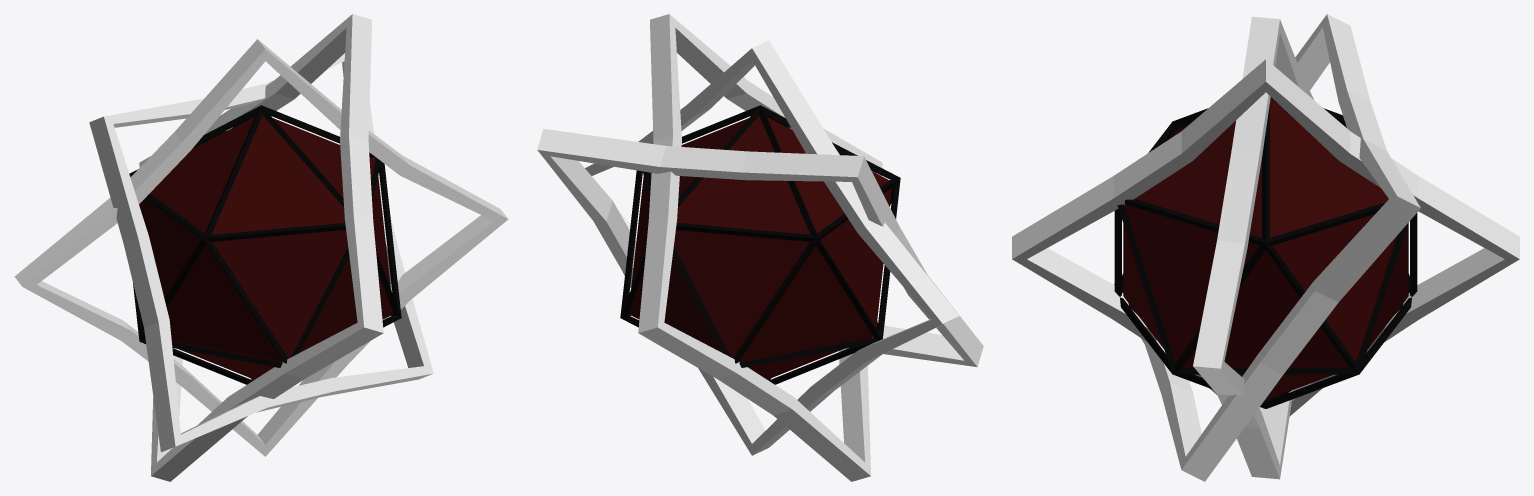
Rendered from Enemigo_bomba.fbx.
3 renders of one model, left to right at view 1: azimuth 30°, elevation 25°; view 2: azimuth 150°, elevation 25°; view 3: azimuth 270°, elevation 25°, orthographic. The views are drawn at different scales.
Parts seen in each view (by area): view 1: Icosphere, Cube.003, Cube, Cube.002, Icosphere.001; view 2: Icosphere, Cube, Cube.002, Cube.003, Icosphere.001; view 3: Icosphere, Cube, Cube.002, Cube.003, Icosphere.001.
Part boxes in pixels (box(x1,y1,x2,y2)): Icosphere: box(139, 115, 393, 379); Cube.003: box(14, 39, 508, 456); Cube: box(139, 14, 383, 481); Cube.002: box(89, 53, 433, 452); Icosphere.001: box(129, 105, 401, 384); Icosphere: box(628, 115, 891, 379); Cube: box(638, 14, 882, 481); Cube.002: box(537, 128, 983, 367); Cube.003: box(585, 40, 959, 455); Icosphere.001: box(620, 105, 900, 384); Icosphere: box(1123, 98, 1408, 399); Cube: box(1012, 59, 1519, 416); Cube.002: box(1114, 14, 1420, 481); Cube.003: box(1193, 16, 1313, 479); Icosphere.001: box(1114, 97, 1417, 408).
Bounding box in the file's own units: 329 × 304 × 293.
